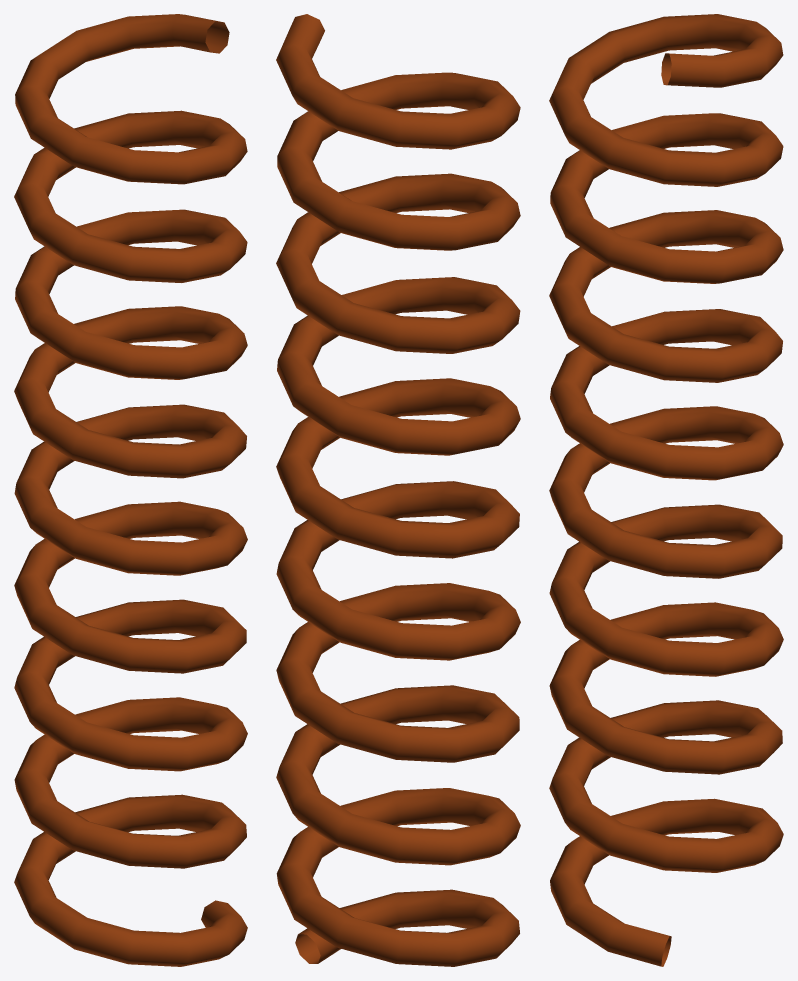
Rendered from 3_spring.obj.
3 renders of one model, left to right at view 1: azimuth 30°, elevation 25°; view 2: azimuth 150°, elevation 25°; view 3: azimuth 270°, elevation 25°, orthographic. The views are drawn at different scales.
Bounding box in the file's own units: 0.082 × 0.3518 × 0.082.
